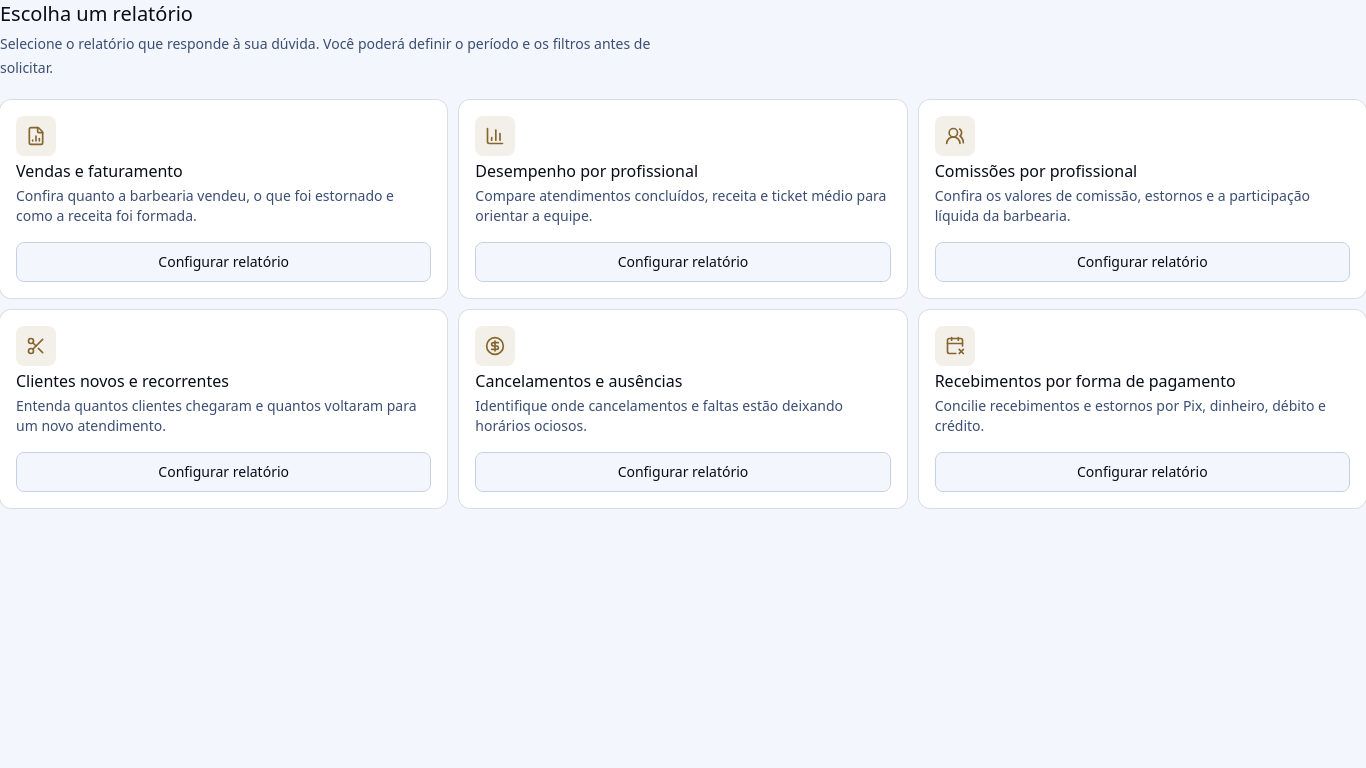
it: generated reports catalog › submits CSV once and confirms email delivery
The width and height of the screenshot is (1366, 768).
Click the button "Configurar relatório" below "Vendas e faturamento" at (224, 262), box [16,242,431,282]
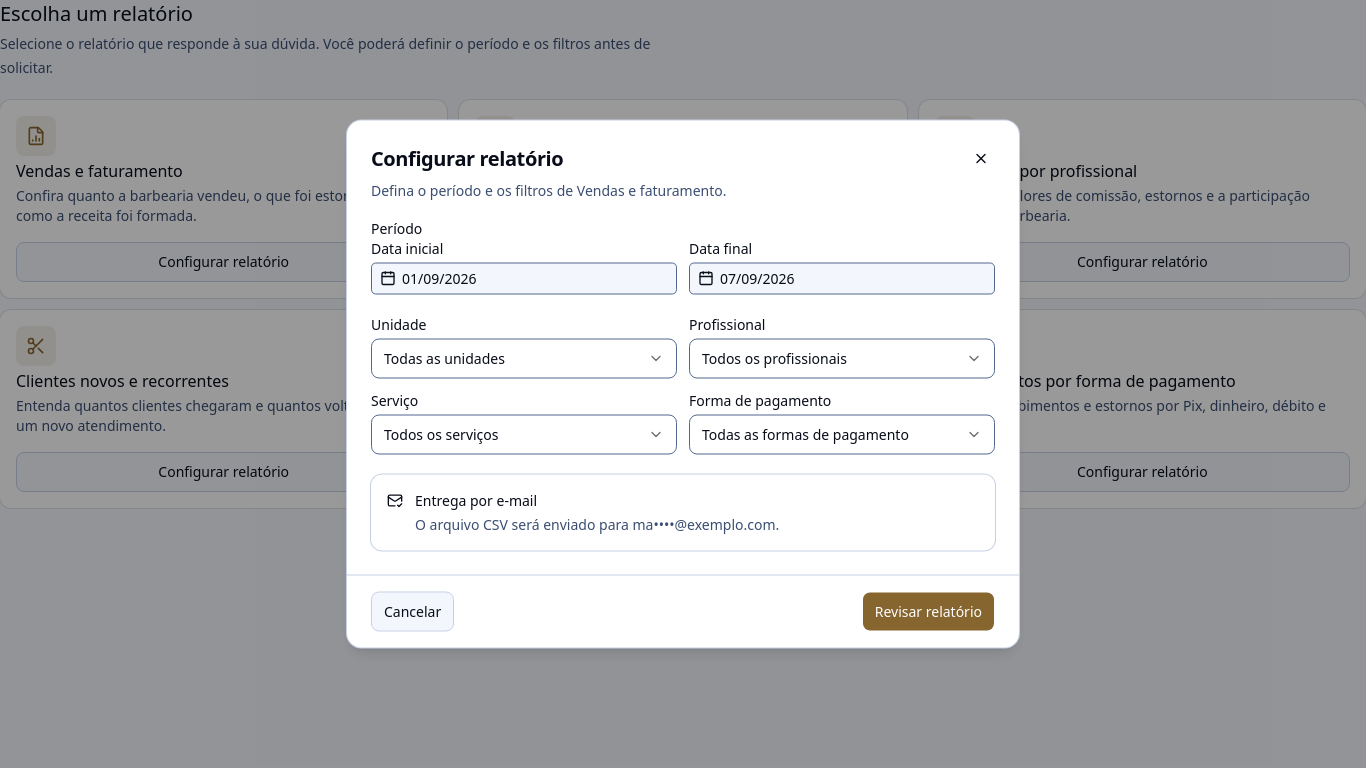
Click the button "Revisar relatório" at (928, 612), box [862,592,995,632]
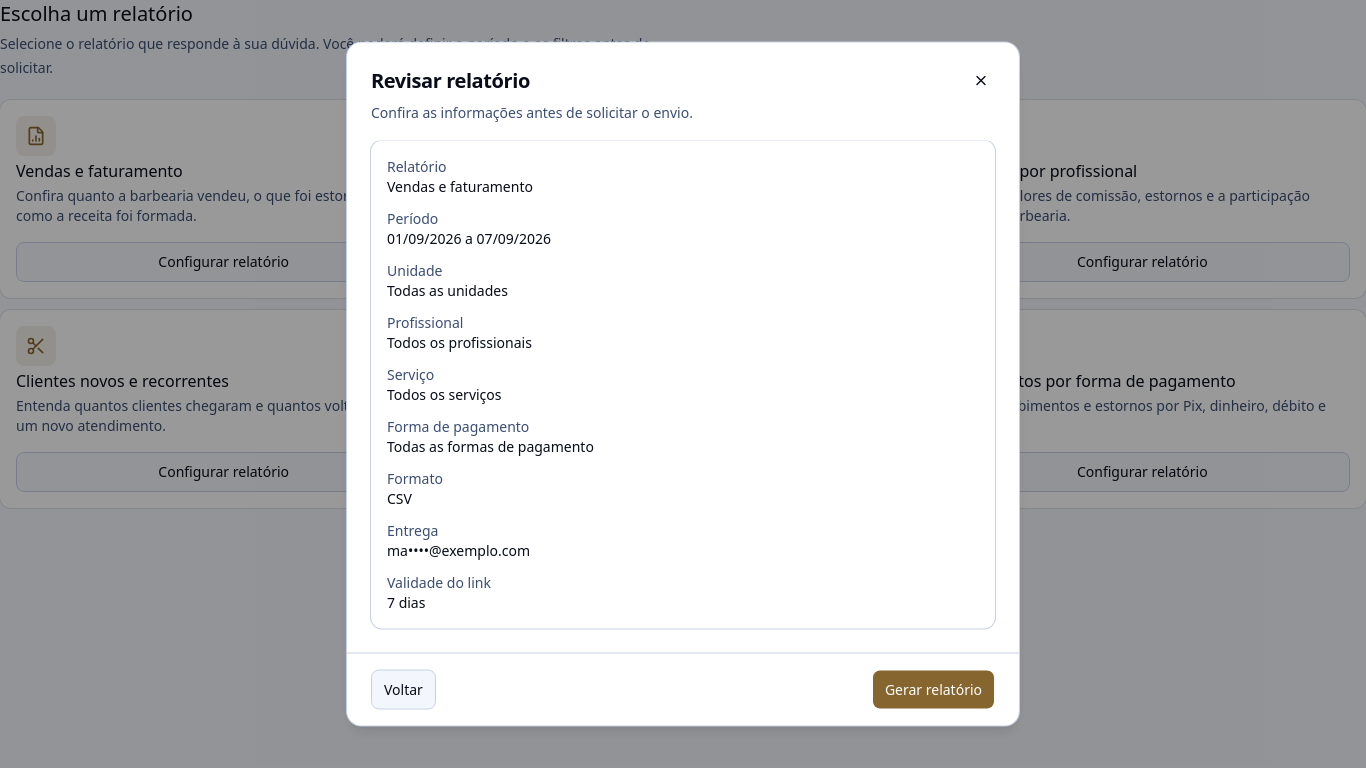
Click the button "Gerar relatório" at (933, 690), box [872,670,995,710]
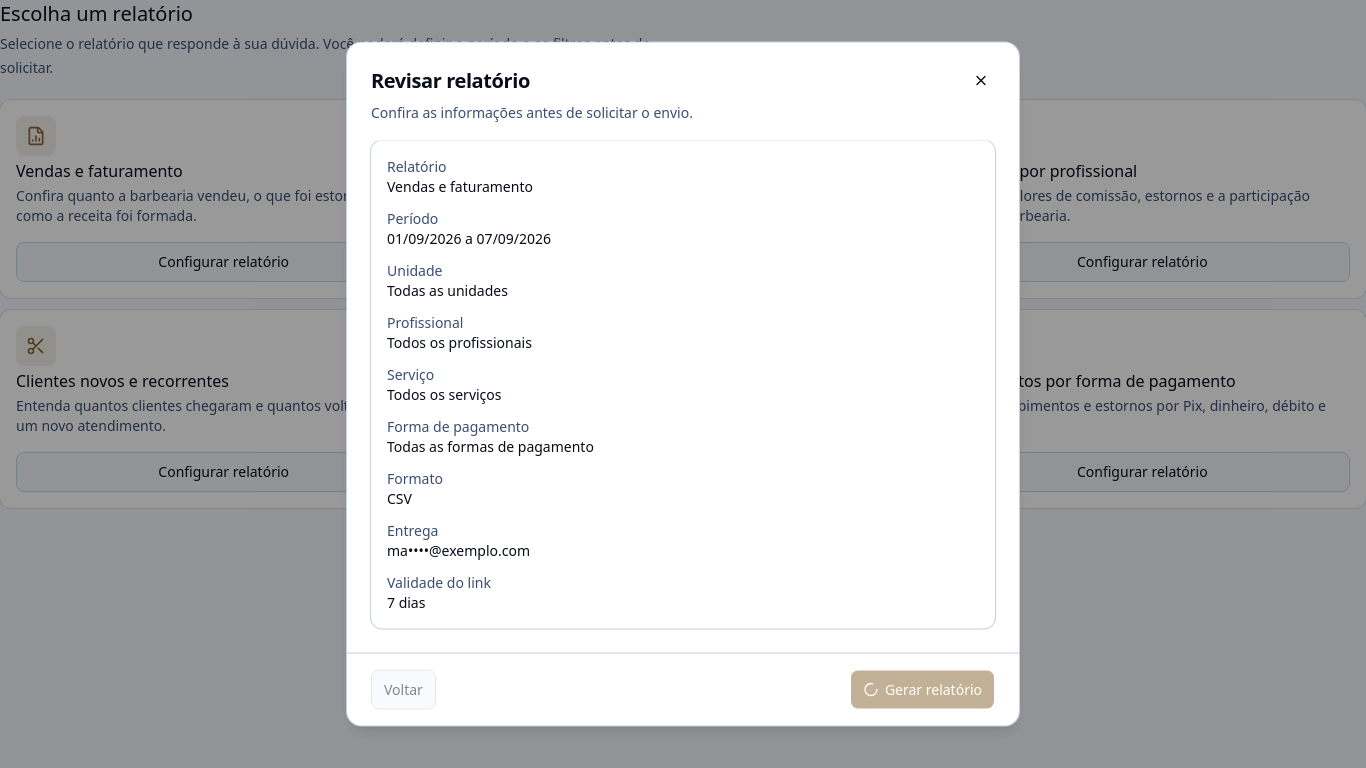
Click the button "Gerar relatório" at (922, 690), box [850,670,995,710]
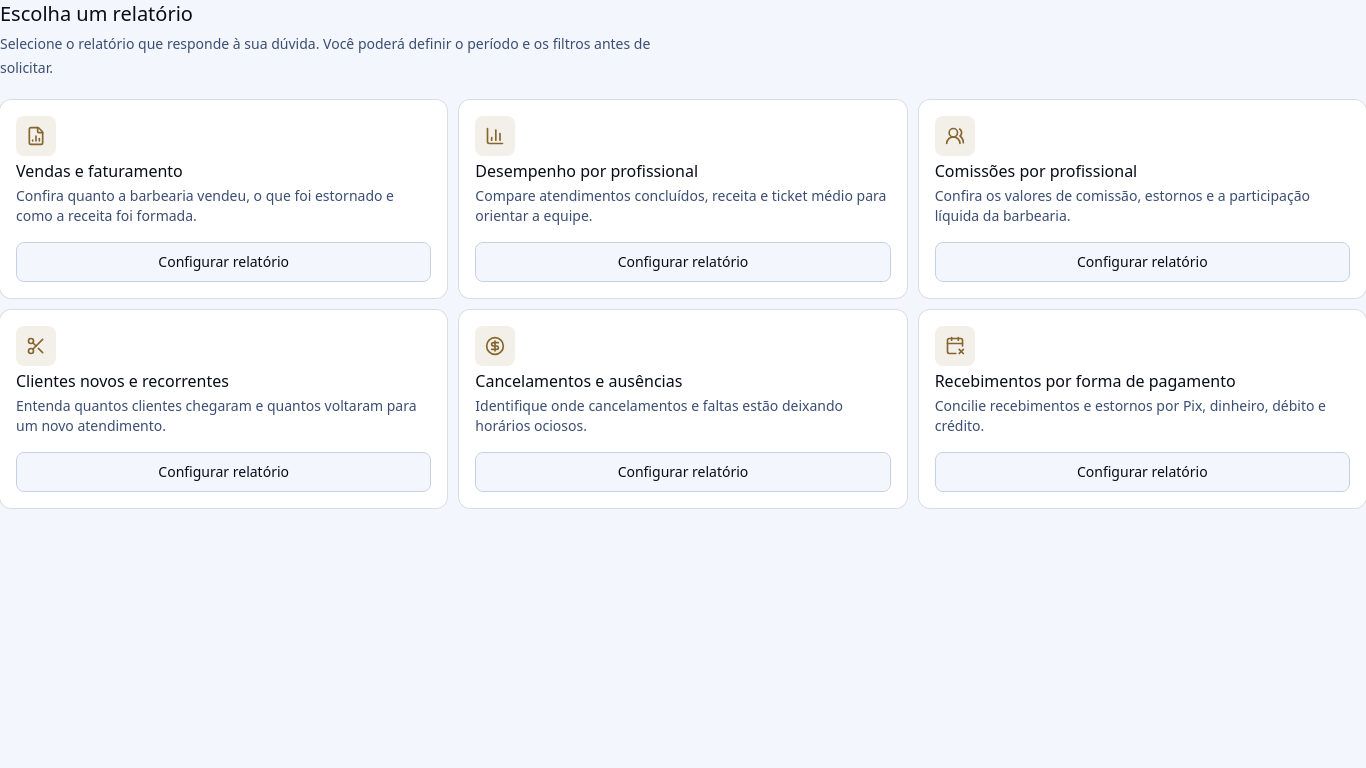
Check: the dialog is gone
